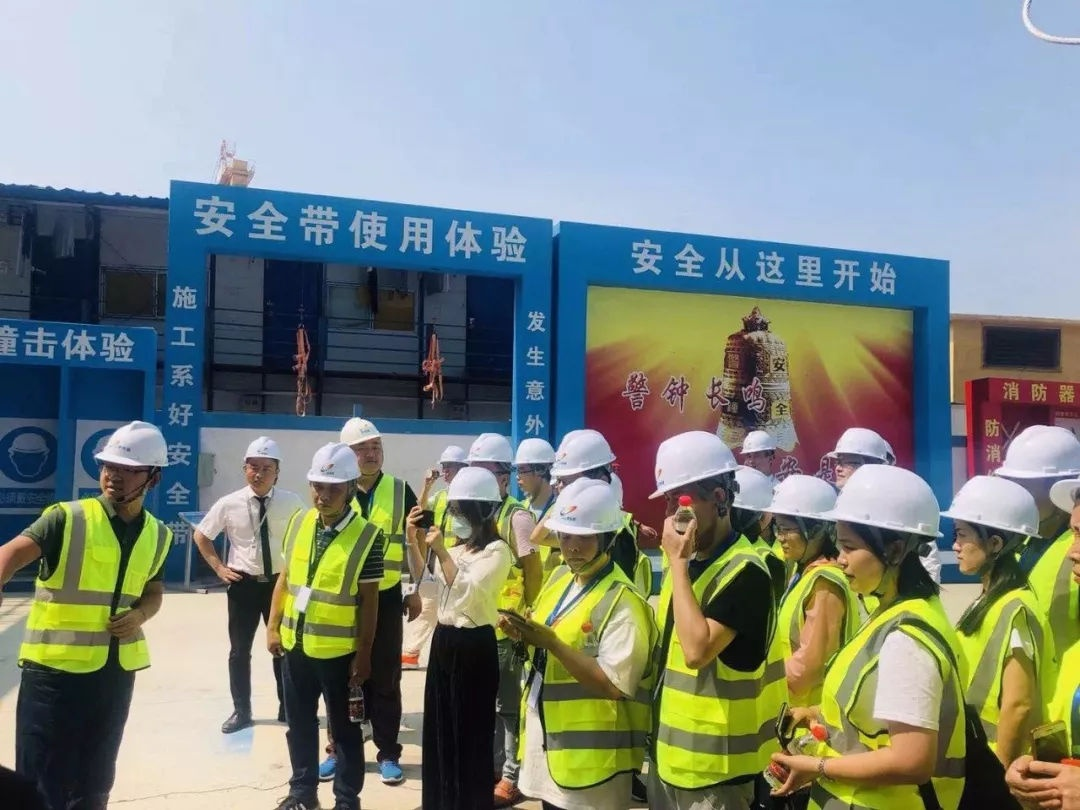white: (829, 467, 944, 592), (937, 472, 1043, 581), (645, 433, 738, 537), (548, 479, 626, 574), (89, 415, 166, 510), (763, 470, 837, 559), (441, 470, 500, 539), (304, 446, 360, 516), (830, 426, 887, 484), (336, 416, 385, 474), (238, 434, 284, 495), (513, 439, 556, 495), (736, 429, 774, 470), (437, 445, 466, 482)
